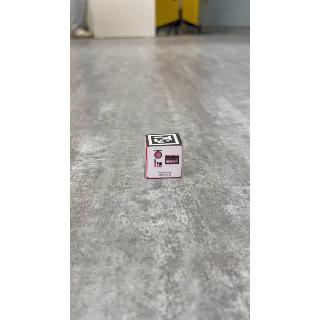Expired_Cosmetic: (148, 148, 184, 179)
